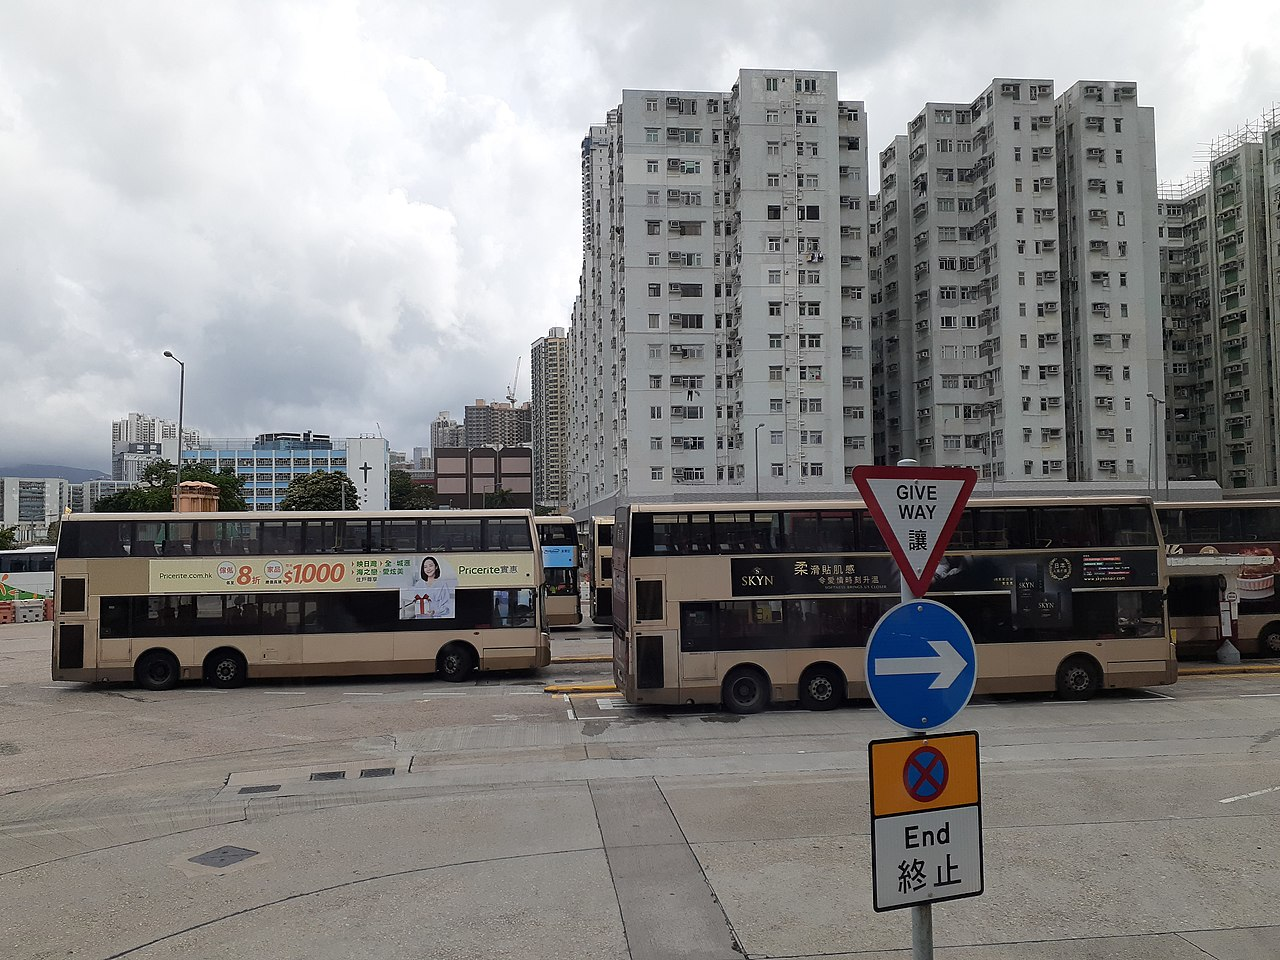End Of No Stopping: (868, 734, 985, 910)
Give Way: (853, 465, 984, 601)
Turn Right: (861, 602, 984, 726)
